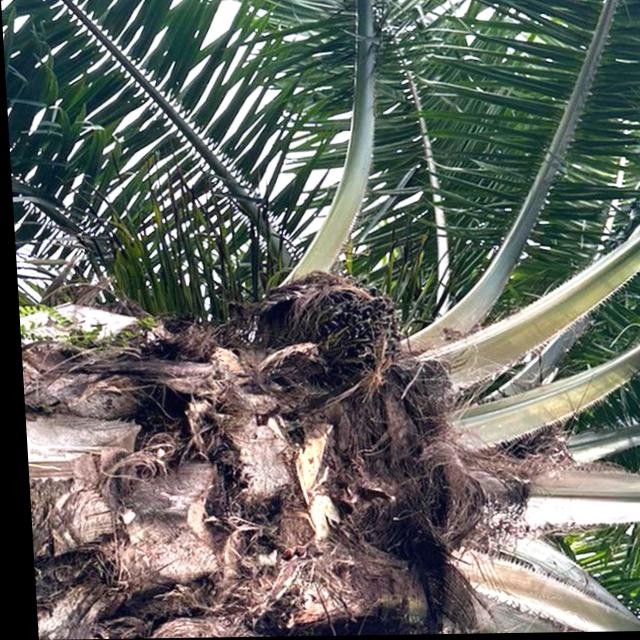unripe: (250, 266, 406, 392)
